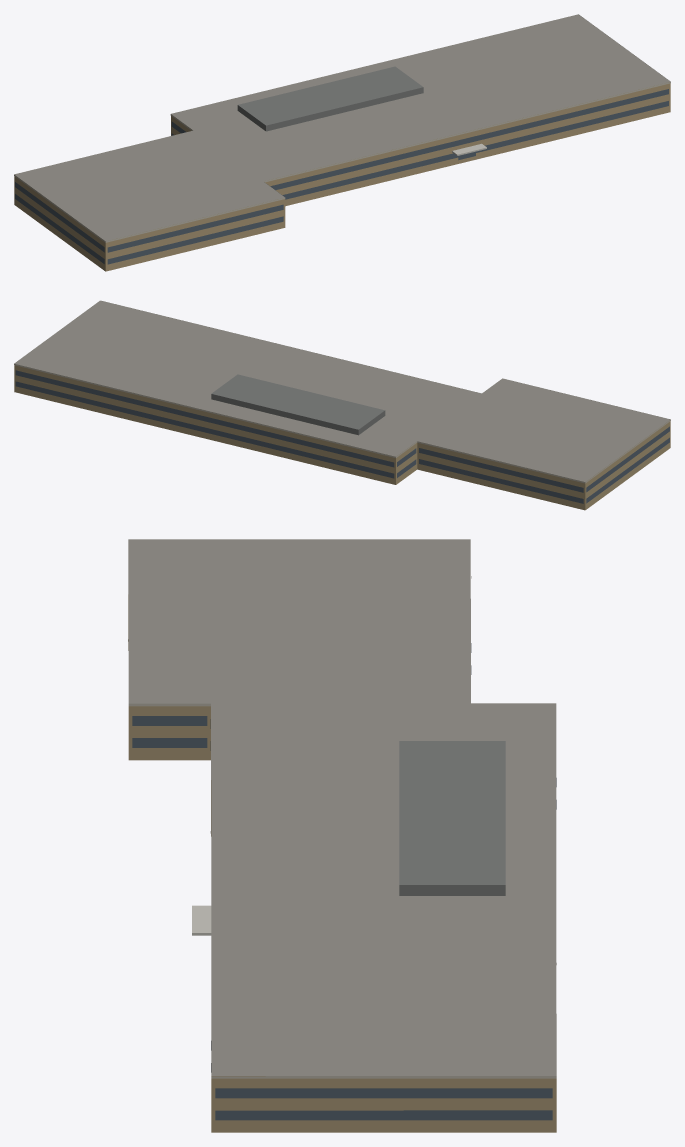
File: office-10585-m2-white-roof-bo53504.glb
3 renders of one model, top to bottom at view 1: azimuth 30°, elevation 25°; view 2: azimuth 150°, elevation 25°; view 3: azimuth 270°, elevation 25°, orthographic. The views are drawn at different scales.
Visible parts, largest first — view 1: office_10585_m2_white_roof_bo53504; view 2: office_10585_m2_white_roof_bo53504; view 3: office_10585_m2_white_roof_bo53504.
Boxes of the visible parts, left/top/right/bottom form: office_10585_m2_white_roof_bo53504: left=14, top=14, right=670, bottom=271; office_10585_m2_white_roof_bo53504: left=14, top=300, right=670, bottom=510; office_10585_m2_white_roof_bo53504: left=128, top=539, right=556, bottom=1132.
Size of the model in its own units: 197 by 11.63 by 66.63.
